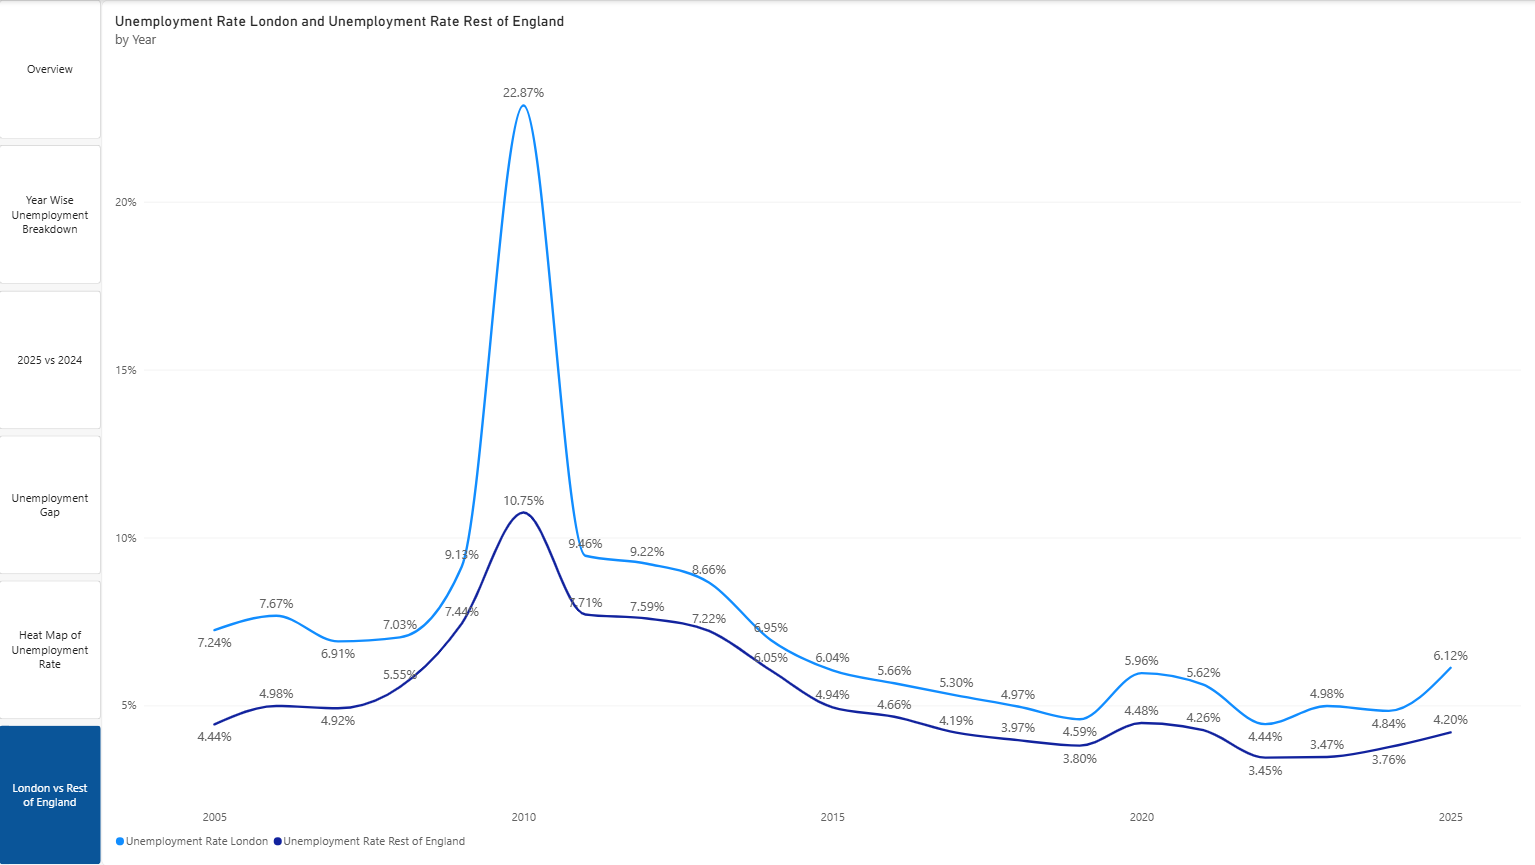

The page's visual inventory and layout, read from the dashboard file:
{"tool":"powerbi","page":{"name":"London vs Rest of England","canvas":[1920,1080],"ordinal":5},"visuals":[{"type":"lineChart","fields":{"Category":["Date Table.Year"],"Y":["All_data.Unemployment Rate London","All_data.Unemployment Rate Rest of England"]},"box":[127.6,0,1792.8,1080.6],"z":0},{"type":"pageNavigator","box":[0,0,127.6,1080.6],"z":1000}]}

Visuals, with their boxes on the page's 1920x1080 design canvas (x1, y1, x2, y2). These are canvas units, not pixel positions in the 1535x865 screenshot, which may show the page scaled, cropped or inside an application window:
lineChart - Date Table.Year x All_data.Unemployment Rate London: (128, 0, 1920, 1081)
pageNavigator: (0, 0, 128, 1081)
